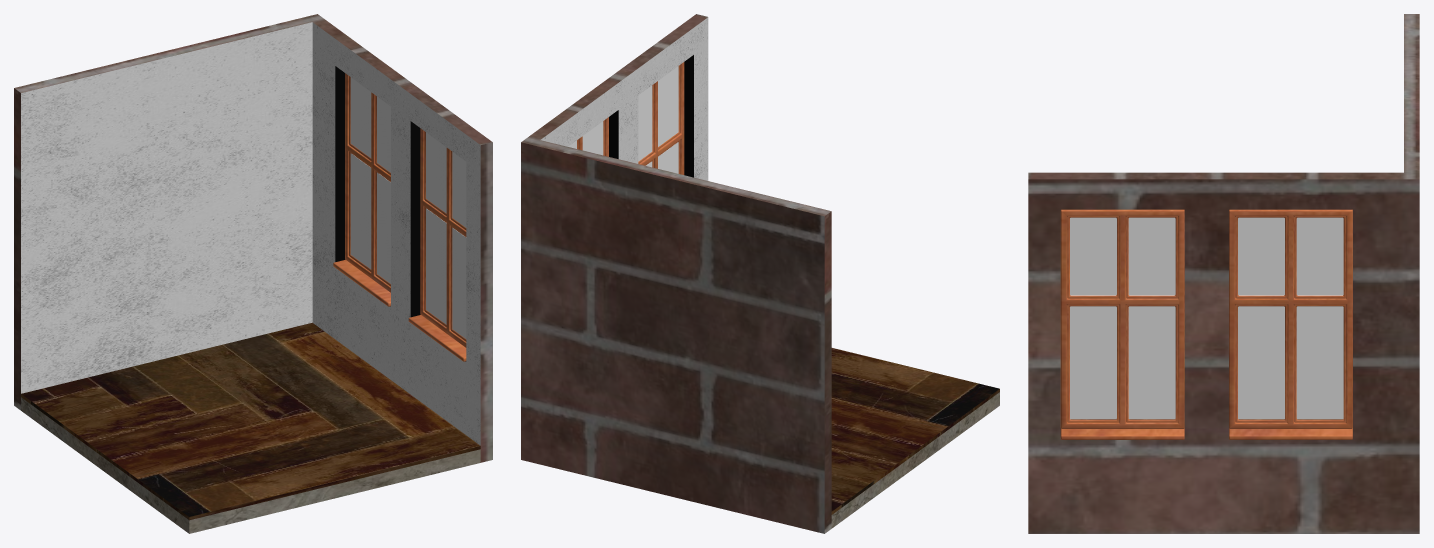
The model's file is NewRoom.glb.
3 renders of one model, left to right at view 1: azimuth 30°, elevation 25°; view 2: azimuth 150°, elevation 25°; view 3: azimuth 270°, elevation 25°, orthographic. The views are drawn at different scales.
Parts seen in each view (by area): view 1: Cube.025; view 2: Cube.025; view 3: Cube.025.
Part boxes in pixels (bbox=[...]): Cube.025: bbox=[14, 14, 492, 533]; Cube.025: bbox=[521, 14, 999, 533]; Cube.025: bbox=[1028, 14, 1419, 533].
Bounding box in the file's own units: 3.14 × 3 × 3.
Materials: 6 (5 with a texture image).
